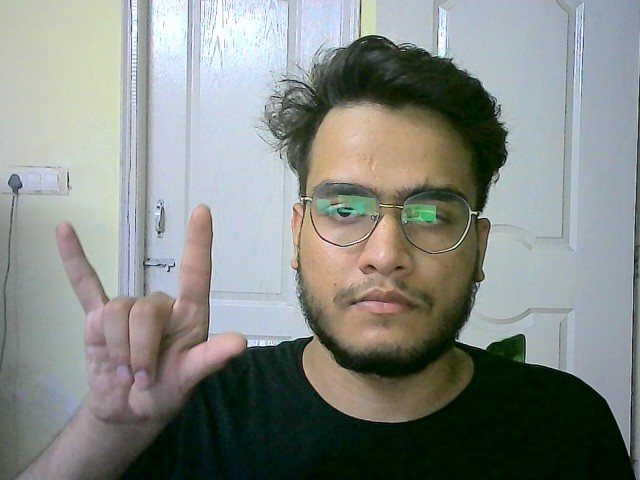I Love You: (42, 204, 252, 430)
